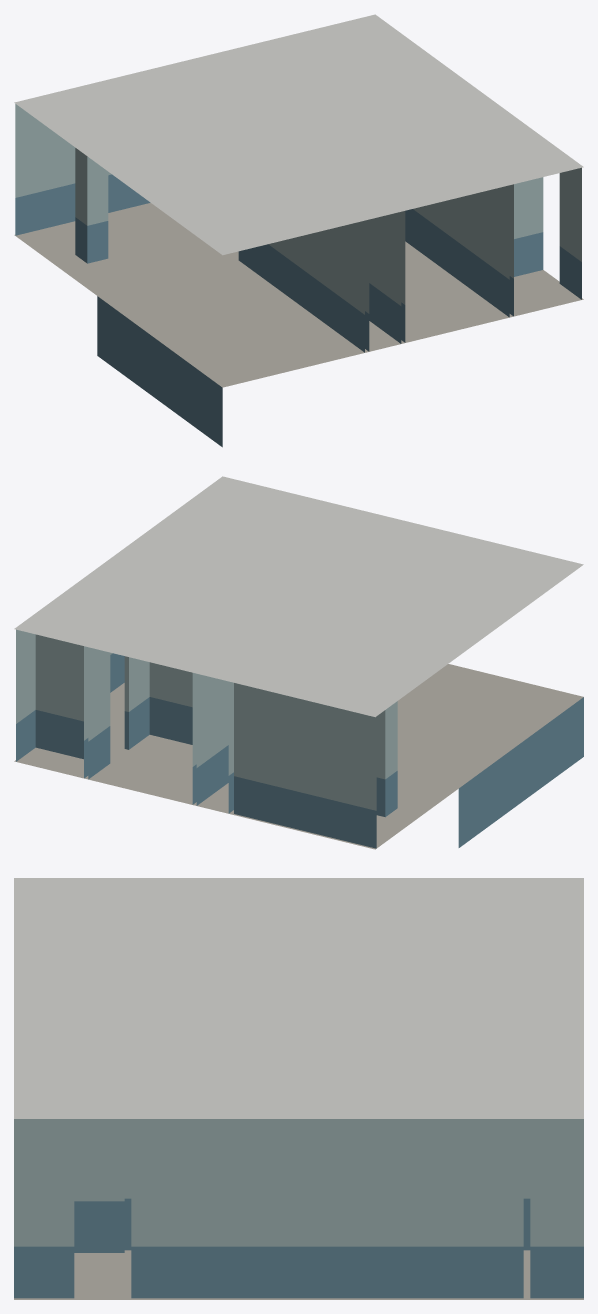
File: chunk_2_3.glb
3 views of the same model, one above another, from view 1: azimuth 30°, elevation 25°; view 2: azimuth 150°, elevation 25°; view 3: azimuth 270°, elevation 25° (orthographic). The views are drawn at different scales.
Parts seen in each view (by area): view 1: chunk_2_3; view 2: chunk_2_3; view 3: chunk_2_3.
Boxes of the visible parts, box(x1,y1,x2,y2) form: chunk_2_3: box(14, 14, 583, 447); chunk_2_3: box(14, 476, 583, 849); chunk_2_3: box(14, 878, 583, 1299).
Bounding box in the file's own units: 12 × 6.1 × 12.
